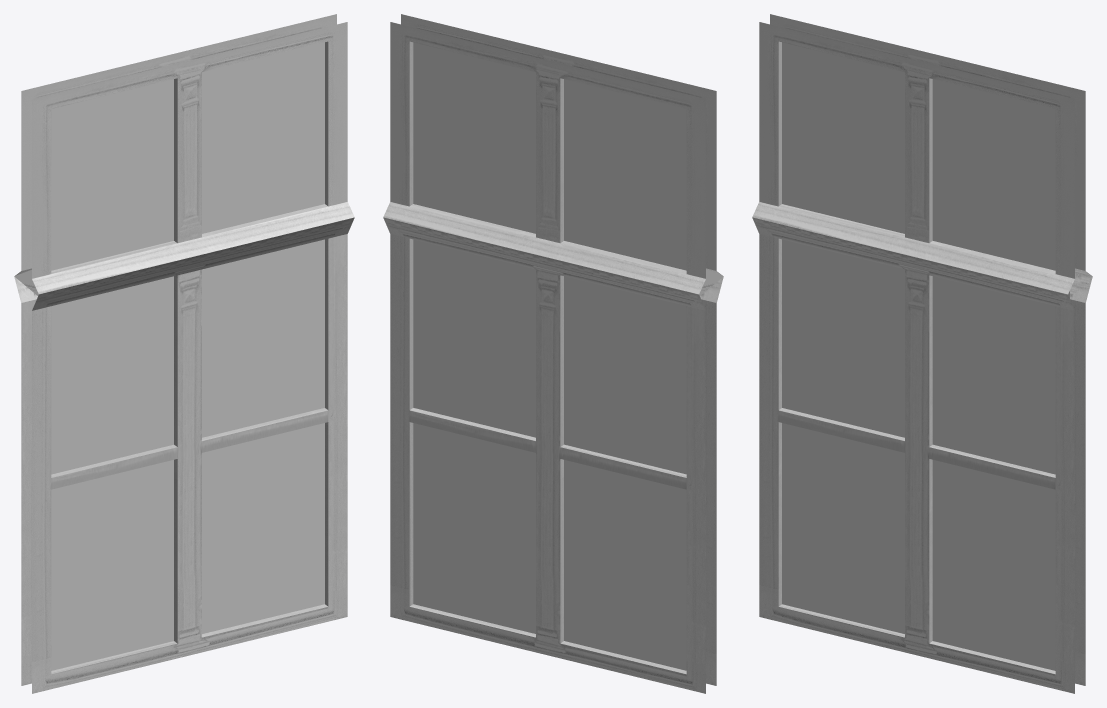
File: Window1A.fbx
3 views of the same model, side by side, from view 1: azimuth 30°, elevation 25°; view 2: azimuth 150°, elevation 25°; view 3: azimuth 330°, elevation 25° (orthographic).
Parts seen in each view (by area): view 1: Window1A; view 2: Window1A; view 3: Window1A.
Part boxes in pixels (x1=…): Window1A: x1=14, y1=14, x2=354, y2=693; Window1A: x1=383, y1=14, x2=723, y2=693; Window1A: x1=752, y1=14, x2=1092, y2=693.
Size of the model in its own units: 100 by 180 by 13.57.
